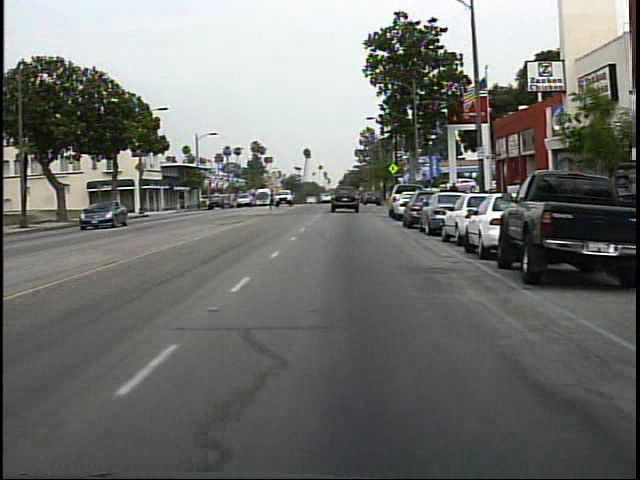person: (445, 178, 465, 219), (267, 185, 281, 214)
